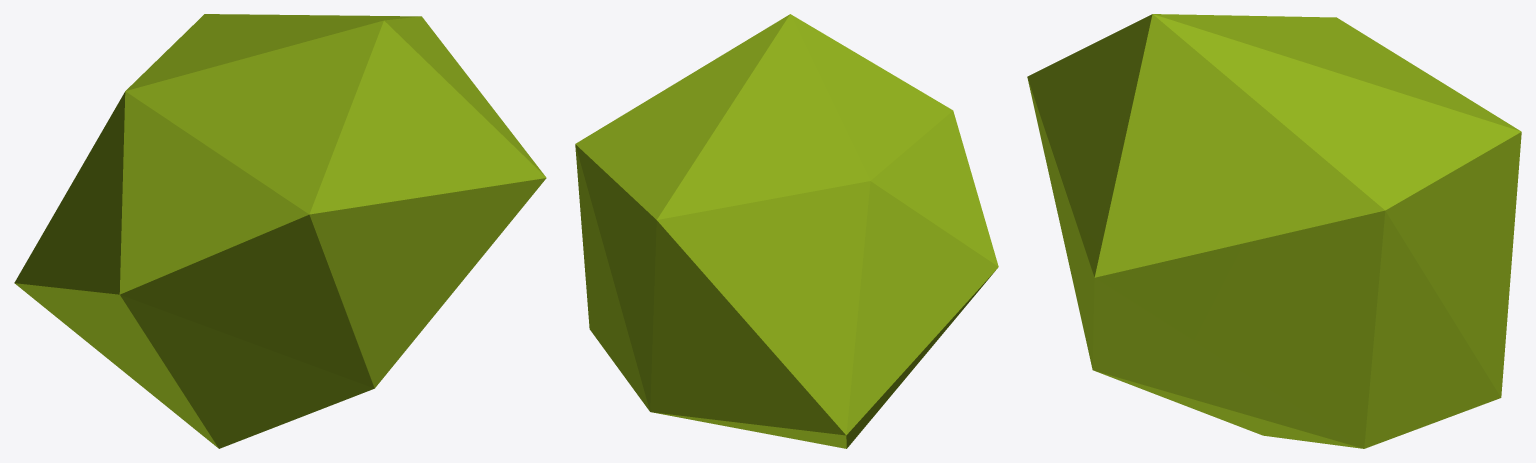
Rendered from Vegetation_Modular_Tree_Foliage_Clump_Small_06.fbx.
3 renders of one model, left to right at view 1: azimuth 30°, elevation 25°; view 2: azimuth 150°, elevation 25°; view 3: azimuth 270°, elevation 25°, orthographic. The views are drawn at different scales.
Parts seen in each view (by area): view 1: Vegetation_Modular_Tree_Foliage_Clump_Small_06; view 2: Vegetation_Modular_Tree_Foliage_Clump_Small_06; view 3: Vegetation_Modular_Tree_Foliage_Clump_Small_06.
Boxes of the visible parts, box(x1,y1,x2,y2) form: Vegetation_Modular_Tree_Foliage_Clump_Small_06: box(14, 14, 546, 448); Vegetation_Modular_Tree_Foliage_Clump_Small_06: box(575, 14, 998, 448); Vegetation_Modular_Tree_Foliage_Clump_Small_06: box(1027, 14, 1521, 448).
Size of the model in its own units: 38.63 by 40.81 by 37.81.
